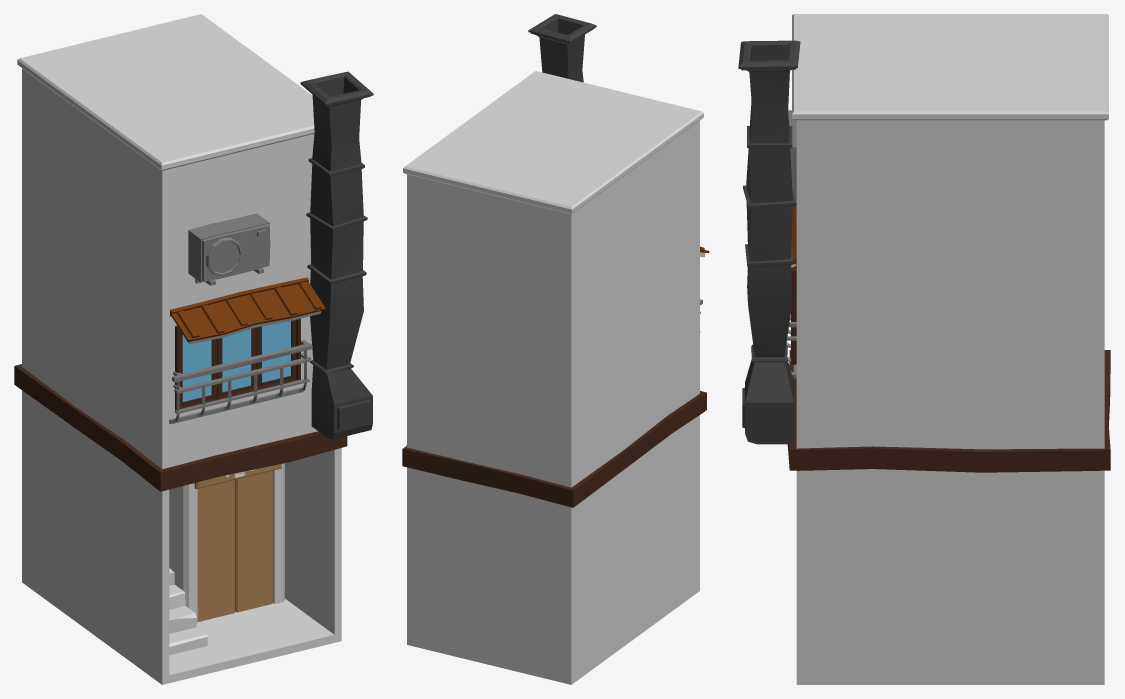
Rendered from SM_shop_02.fbx.
3 views of the same model, side by side, from view 1: azimuth 30°, elevation 25°; view 2: azimuth 150°, elevation 25°; view 3: azimuth 270°, elevation 25° (orthographic). The views are drawn at different scales.
Visible parts, largest first — view 1: Object32371; view 2: Object32371; view 3: Object32371.
Part boxes in pixels (x1=…): Object32371: x1=14, y1=14, x2=373, y2=684; Object32371: x1=402, y1=14, x2=709, y2=684; Object32371: x1=738, y1=14, x2=1110, y2=684.
Bounding box in the file's own units: 122 × 347 × 187.
